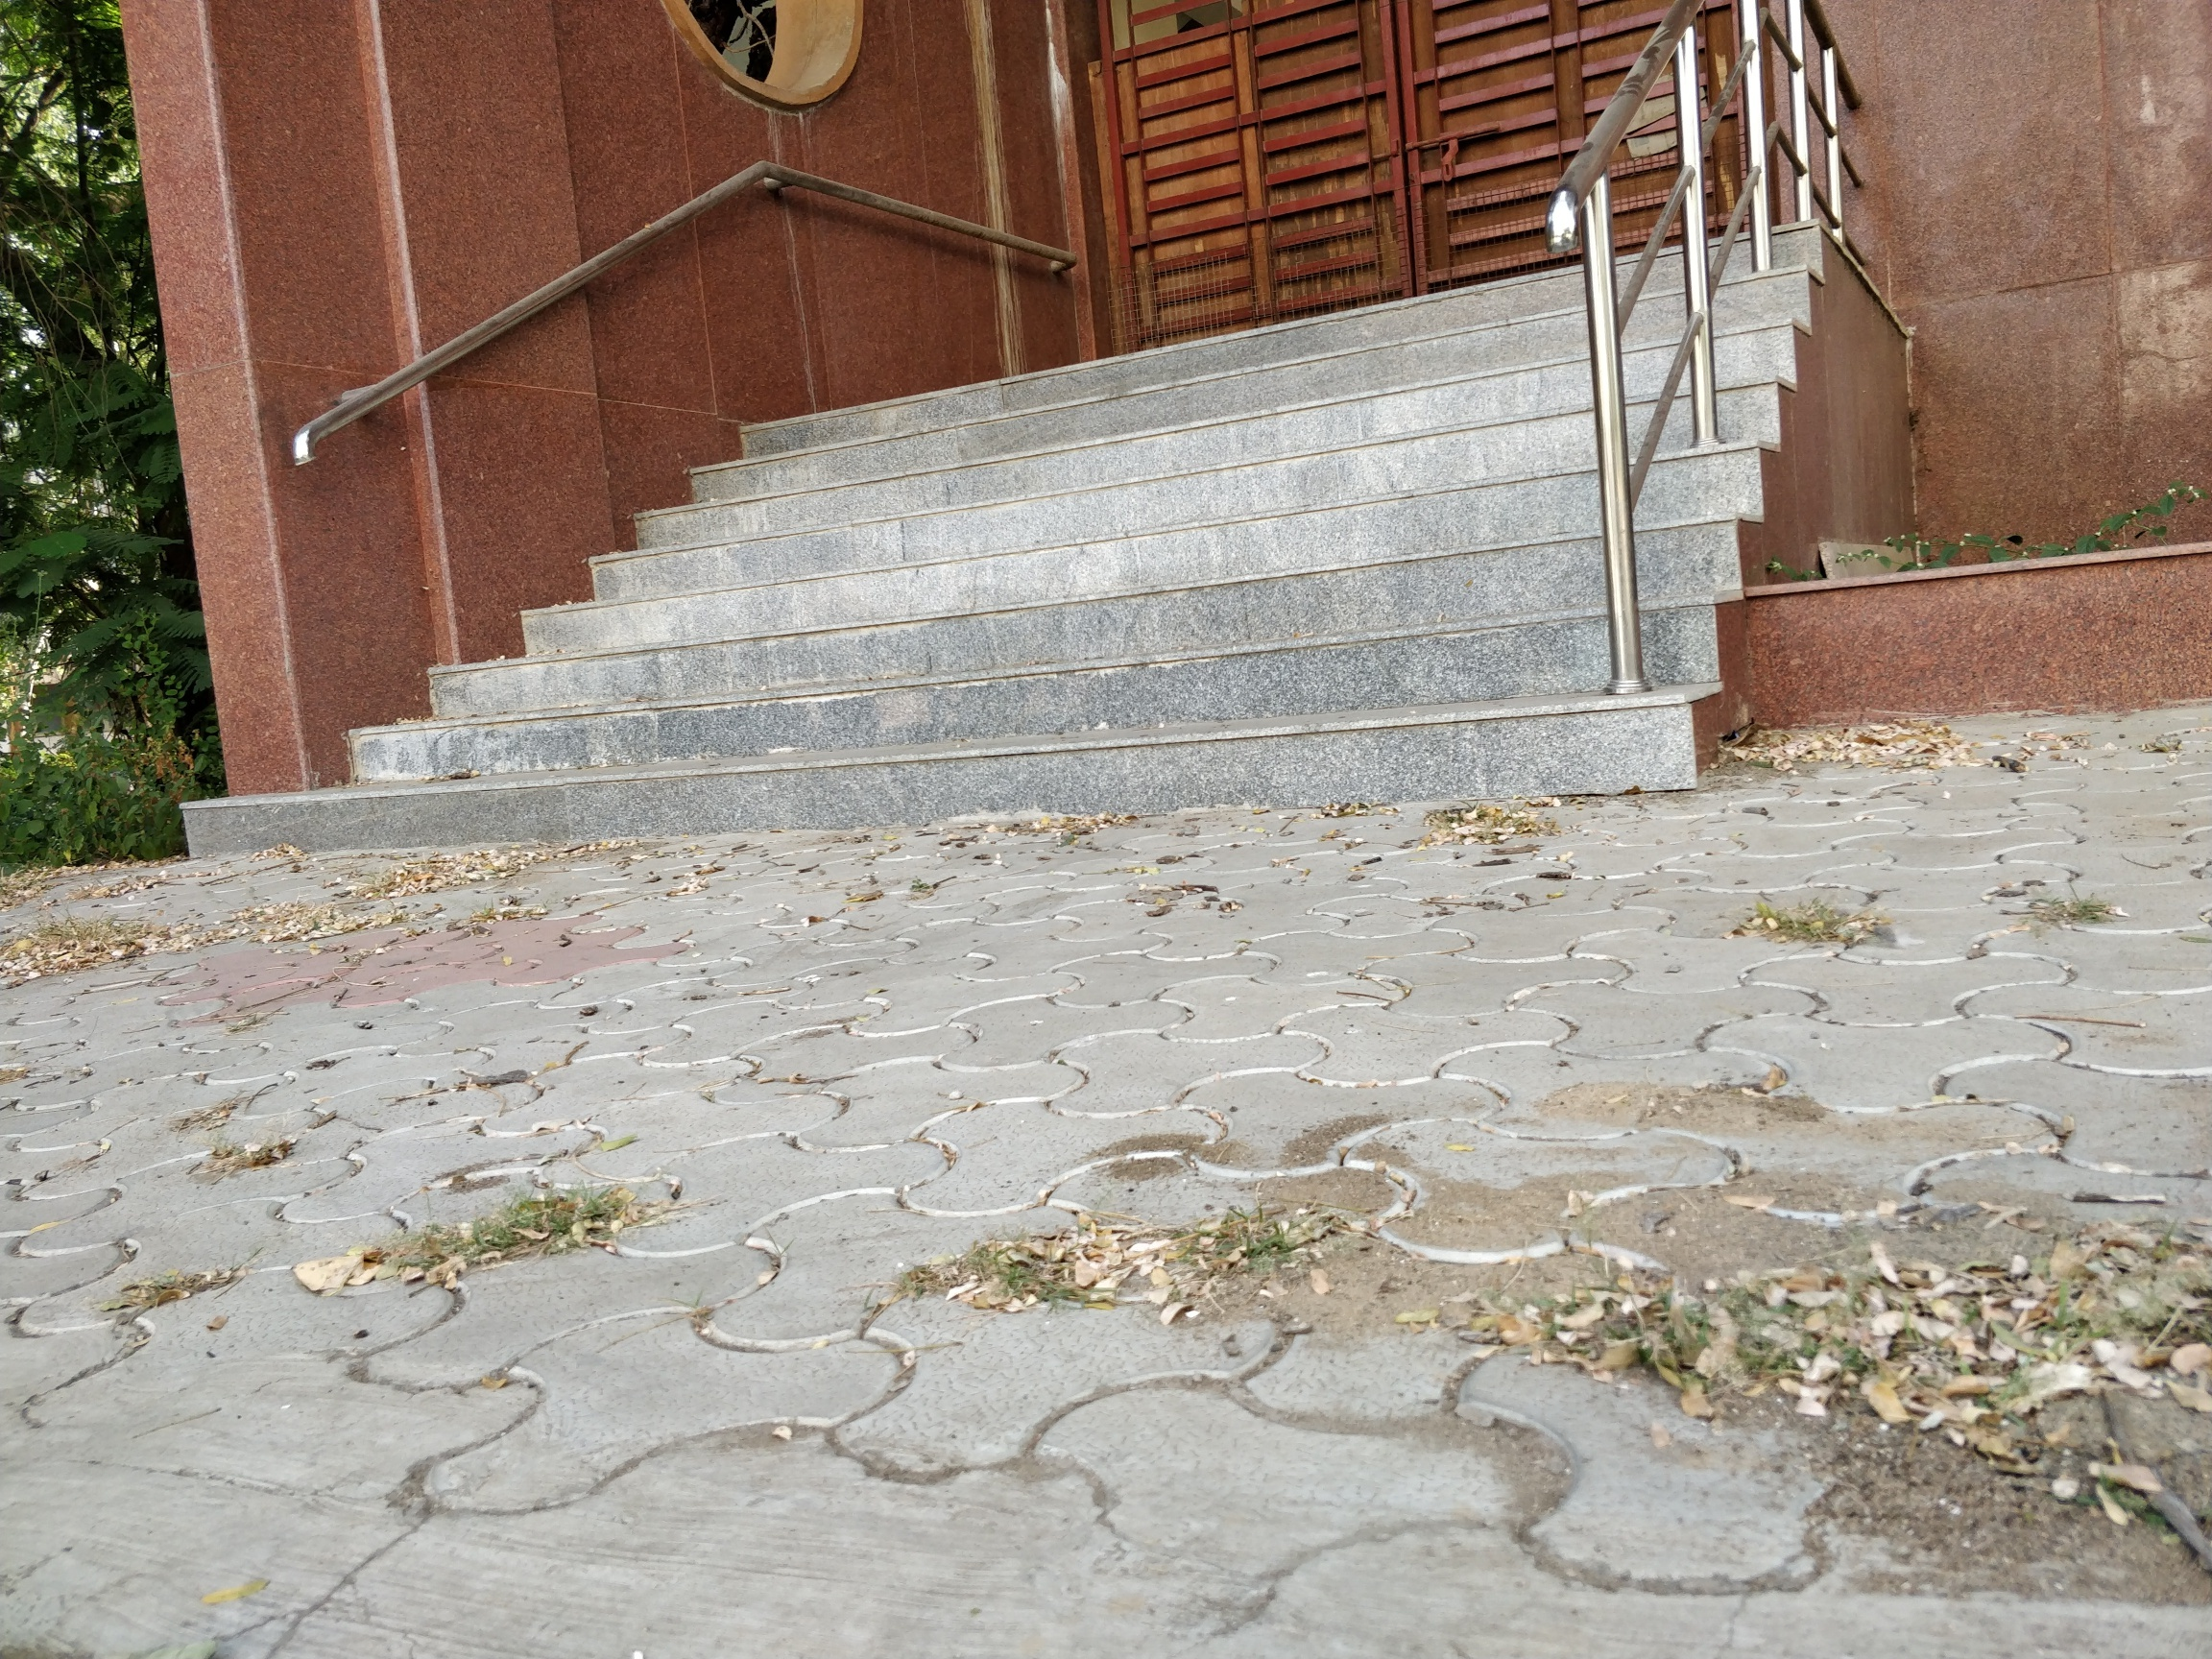stairs_up: (70, 227, 1813, 884)
